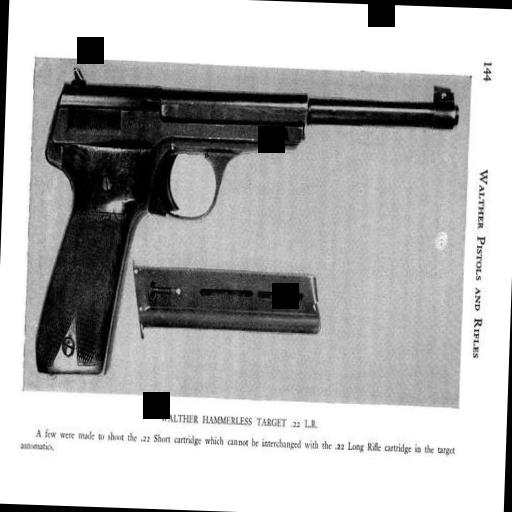Handgun: (30, 64, 462, 392)
